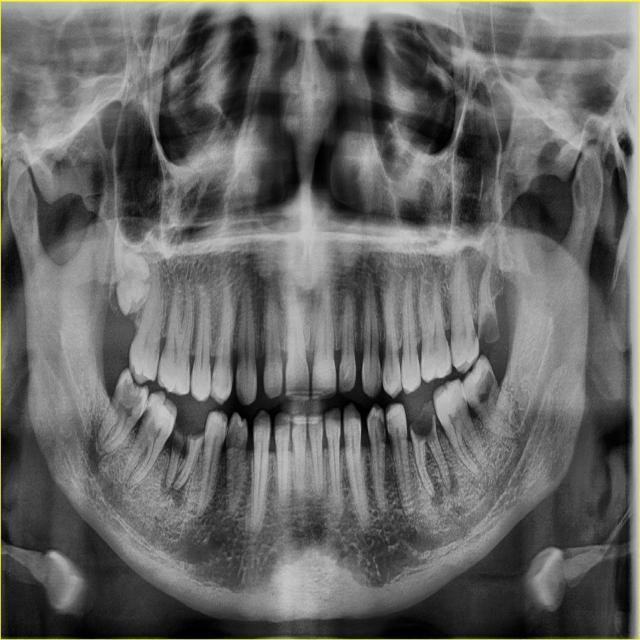72: (169, 427, 208, 492), (473, 260, 499, 344), (164, 424, 187, 489)
Sterngold Implant: (410, 398, 436, 444), (120, 374, 146, 413), (140, 403, 156, 426), (378, 410, 386, 447), (469, 323, 479, 345), (382, 367, 390, 391), (374, 366, 382, 386), (386, 414, 393, 434), (211, 370, 217, 389)
